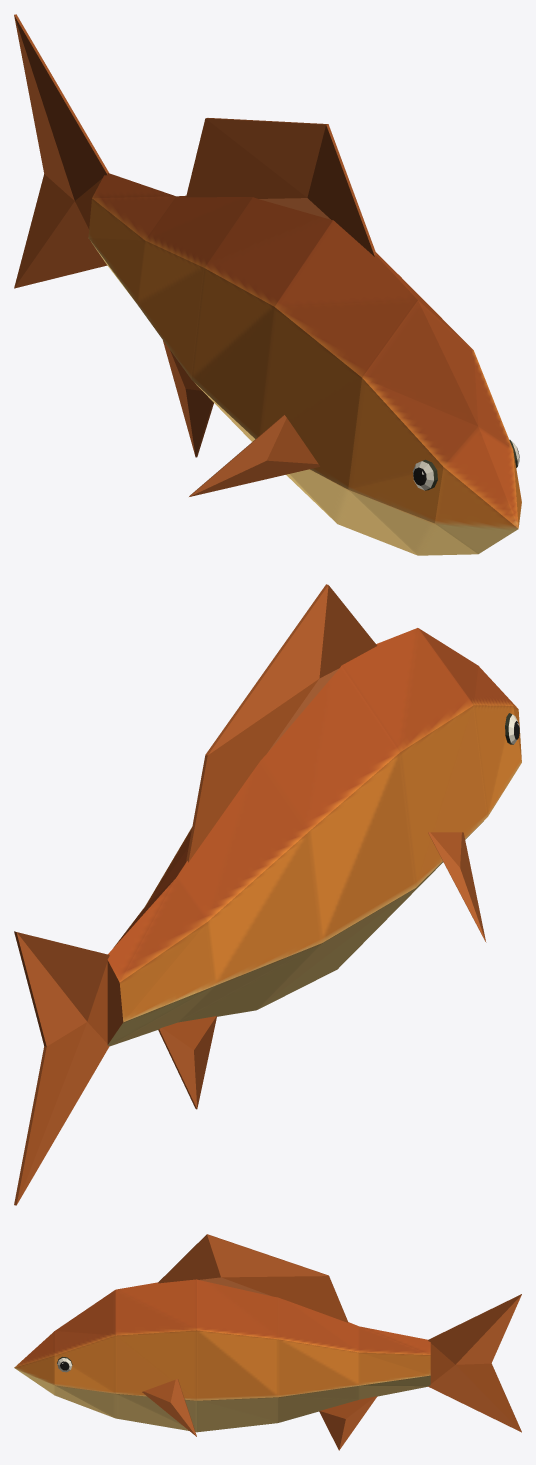
File: Carp.fbx
3 views of the same model, one above another, from view 1: azimuth 30°, elevation 25°; view 2: azimuth 150°, elevation 25°; view 3: azimuth 270°, elevation 25° (orthographic). The views are drawn at different scales.
Parts seen in each view (by area): view 1: Carp; view 2: Carp; view 3: Carp.
Boxes of the visible parts, left/top/right/bottom form: Carp: left=14, top=14, right=521, bottom=555; Carp: left=14, top=584, right=521, bottom=1205; Carp: left=14, top=1234, right=521, bottom=1450.
Size of the model in its own units: 0.2048 by 0.282 by 0.6.
Materials: 1 (1 with a texture image).
